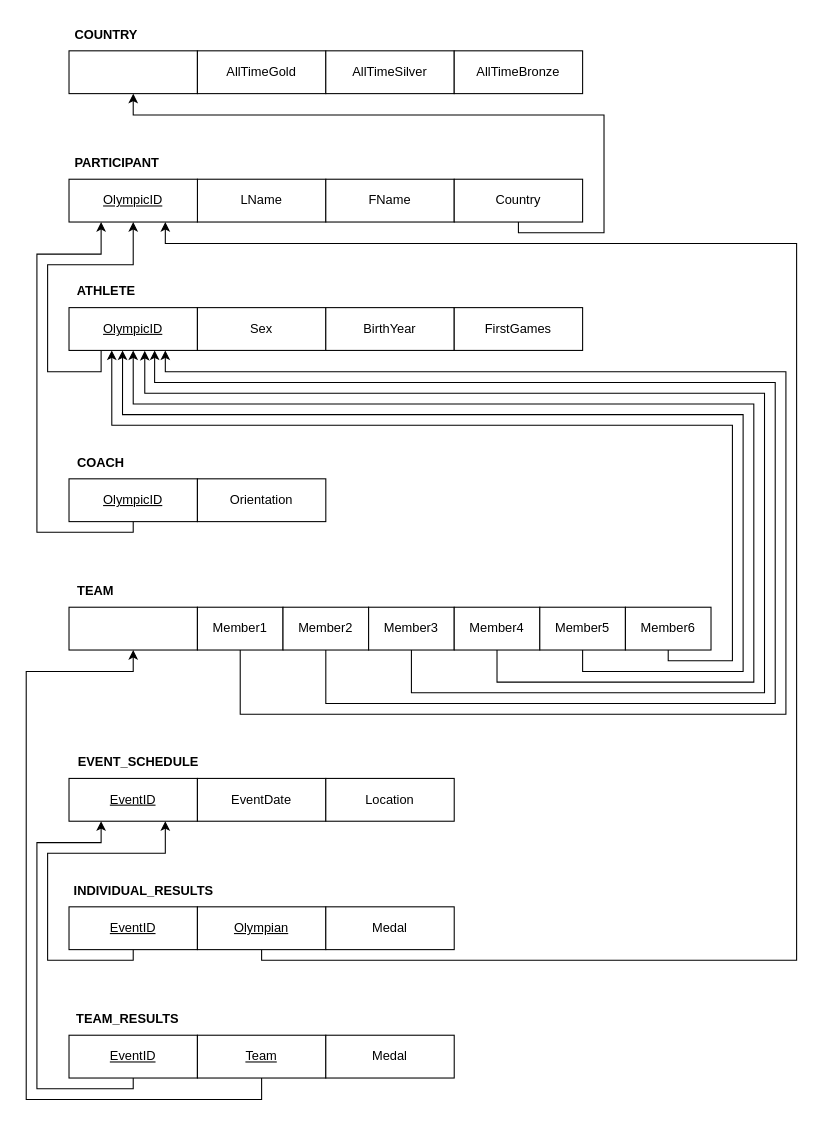
The diagram is 824 pixels wide and 1127 high, and some of its shapes have lost their labels. The shapes that lost their labels are listed below. From the top down, each one's centre as x and y in pixels, then its label:
the point at 132,72: CName
the point at 132,628: TeamID
